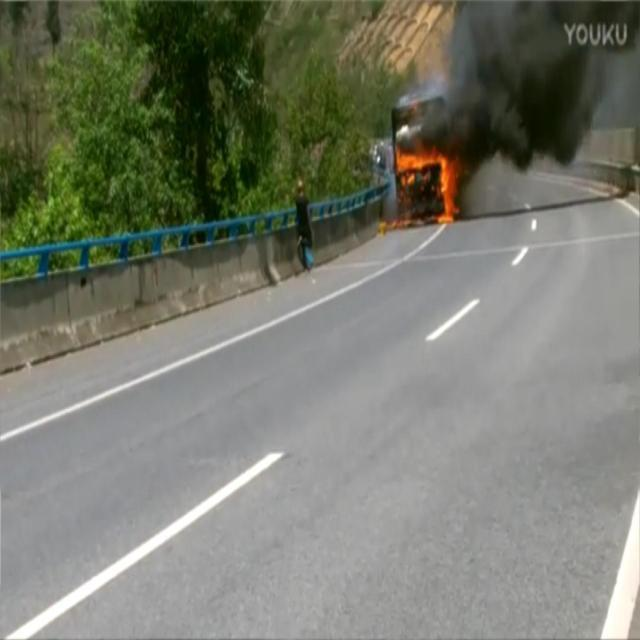Fire: (378, 146, 461, 230)
Smoke: (392, 1, 640, 174)
